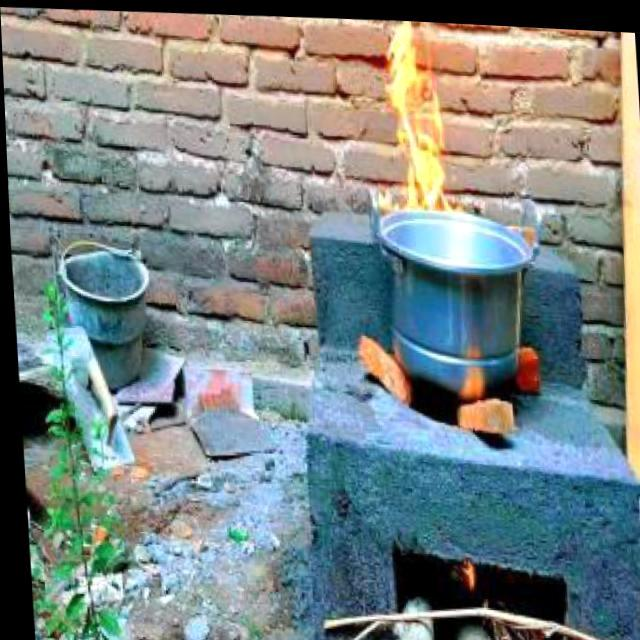fire: (362, 15, 464, 233), (450, 322, 492, 404), (452, 538, 476, 588)
